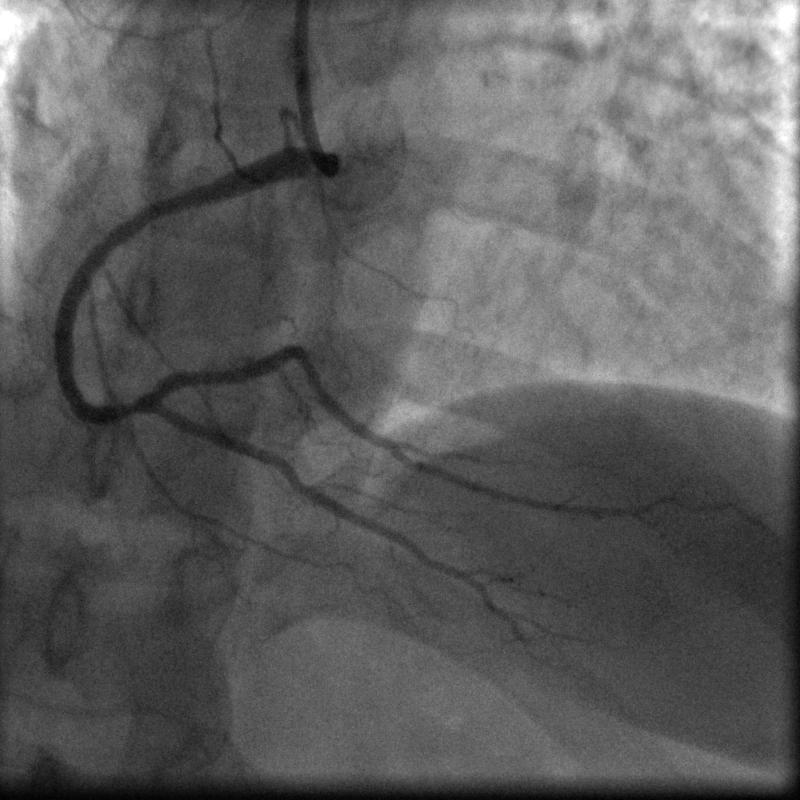Stenosis: (107, 397, 151, 422)
